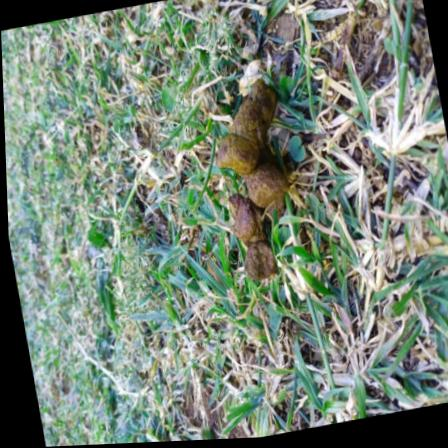dog-poop: (191, 71, 317, 293)
